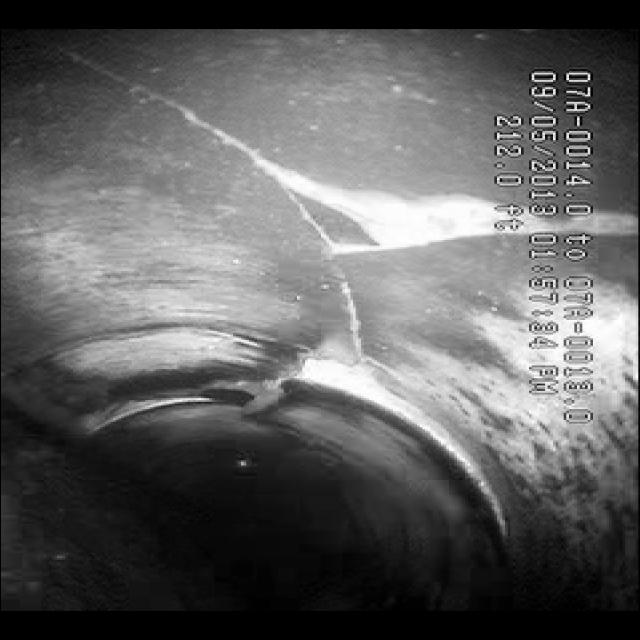Crack: (109, 64, 476, 382)
